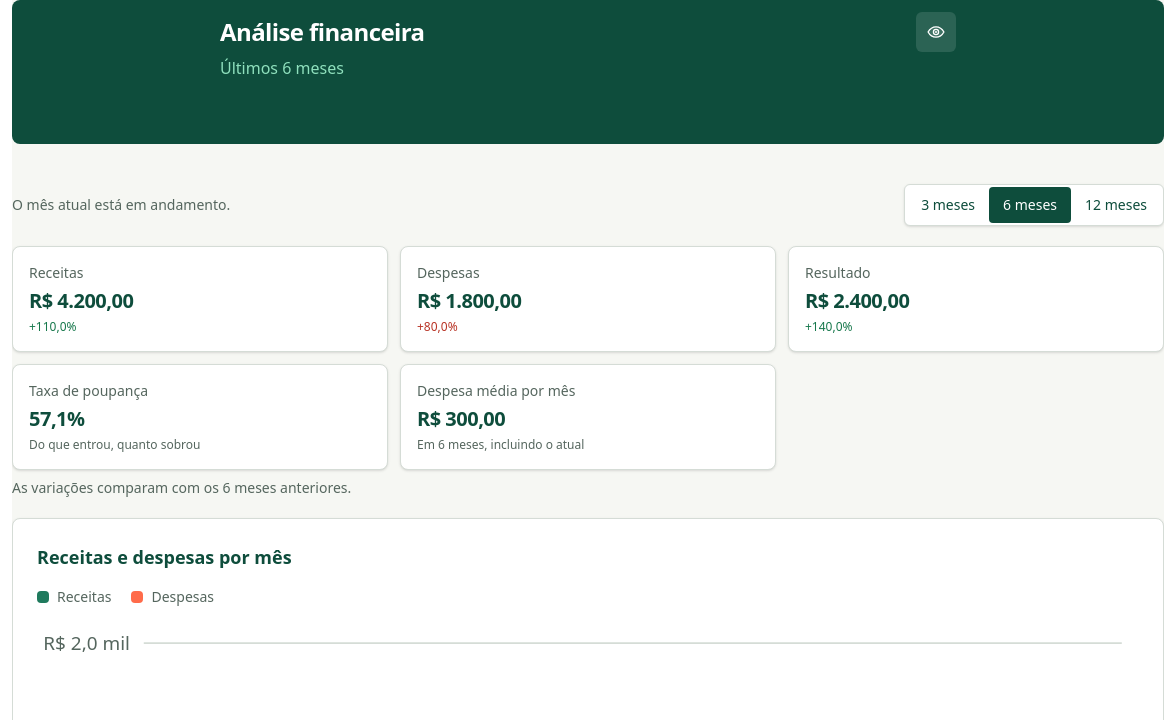
it: página de análise financeira › os botões de período buscam de novo e ficam marcados; o período vai para a URL
Expected: the element named "Indicadores do período" is shown, [12,246,1164,498]
Step 1. Click the button "3 meses" → (948, 205), box [907,187,989,223]
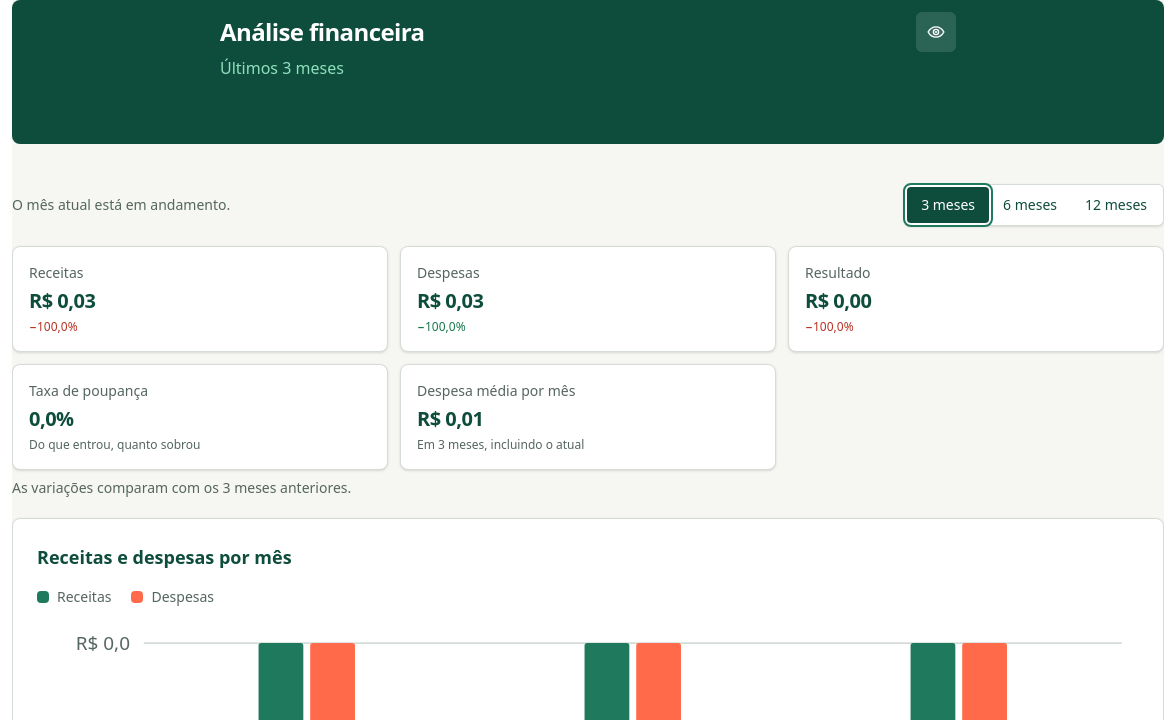
Result: the text "Últimos 3 meses" is shown at [220,57,344,79]
